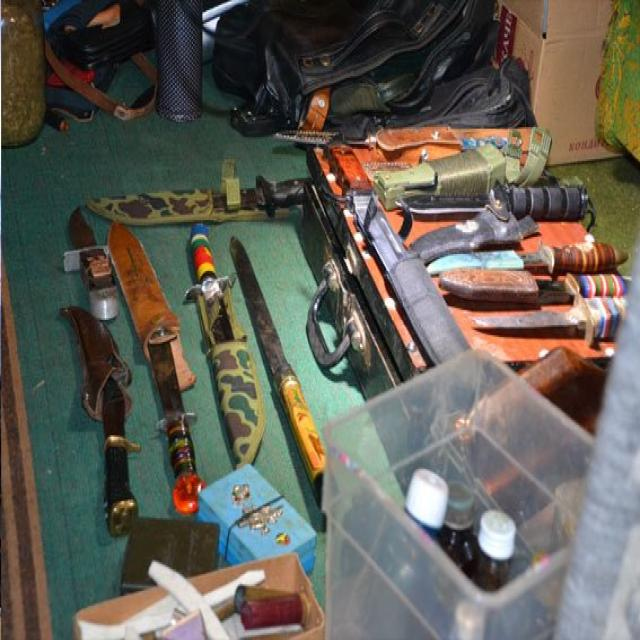knife: (316, 135, 465, 356), (106, 235, 202, 525), (60, 298, 148, 549), (180, 227, 255, 491), (232, 242, 302, 517), (469, 297, 640, 351), (400, 178, 600, 220), (438, 265, 640, 304), (88, 183, 292, 217), (418, 245, 634, 272)
